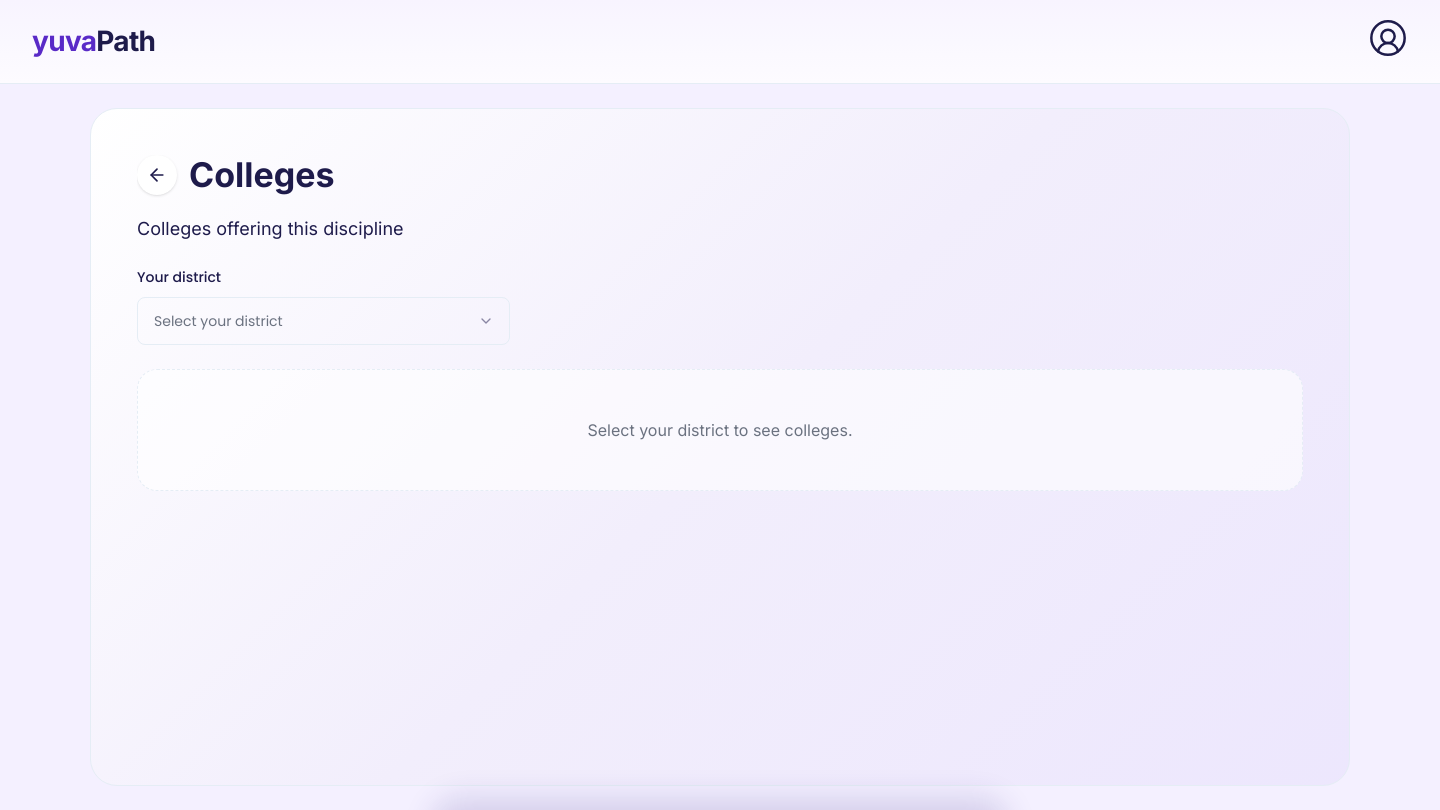
Test: CollegePage — pick a district first › shows a district-specific empty message when nothing in that district offers the pathway
Select "Madurai" in the dropdown named "Your district": (323, 321) x1=137 y1=297 x2=510 y2=345
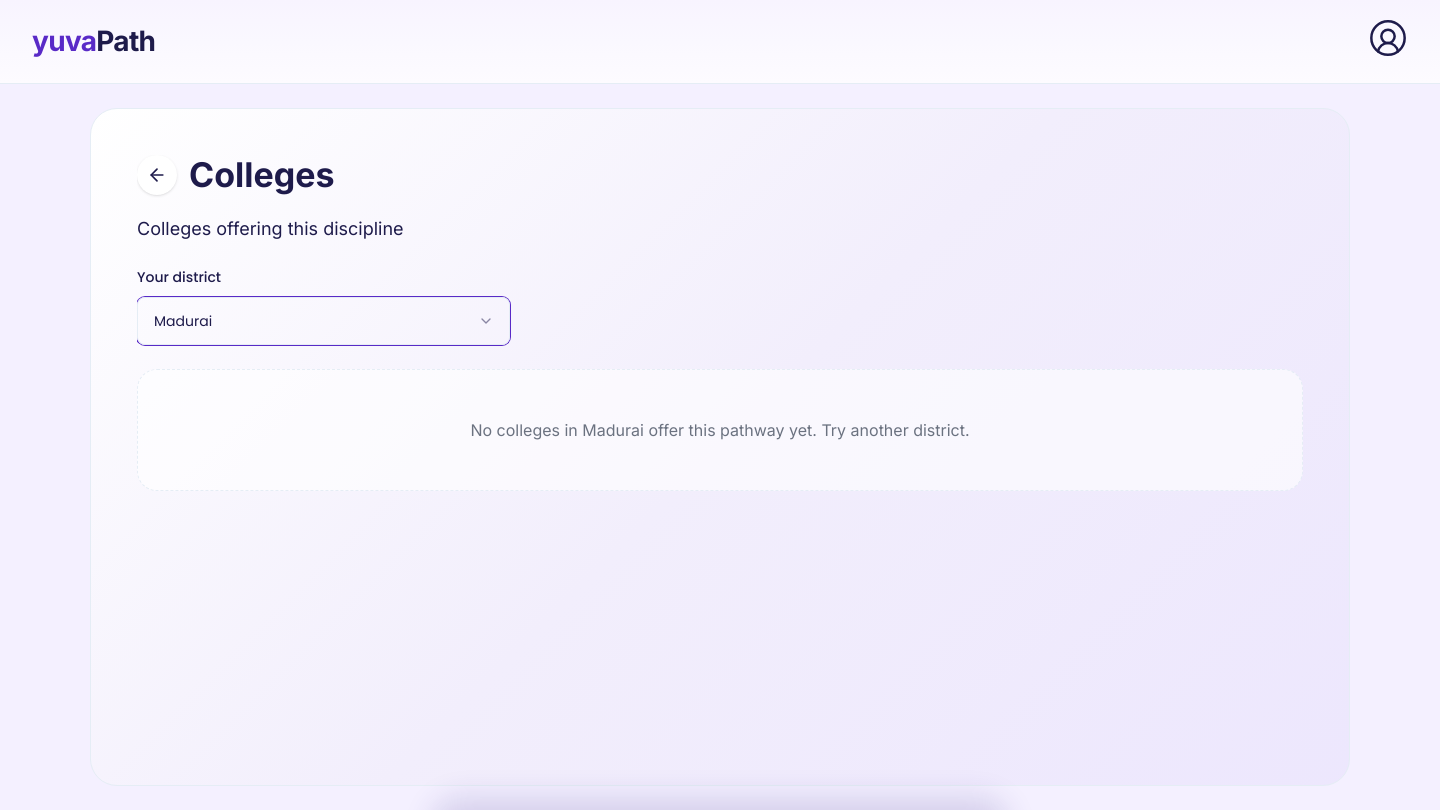
Expected: the text "No colleges in Madurai offer this pathway yet. Try another district." is shown, x1=137 y1=369 x2=1303 y2=491
